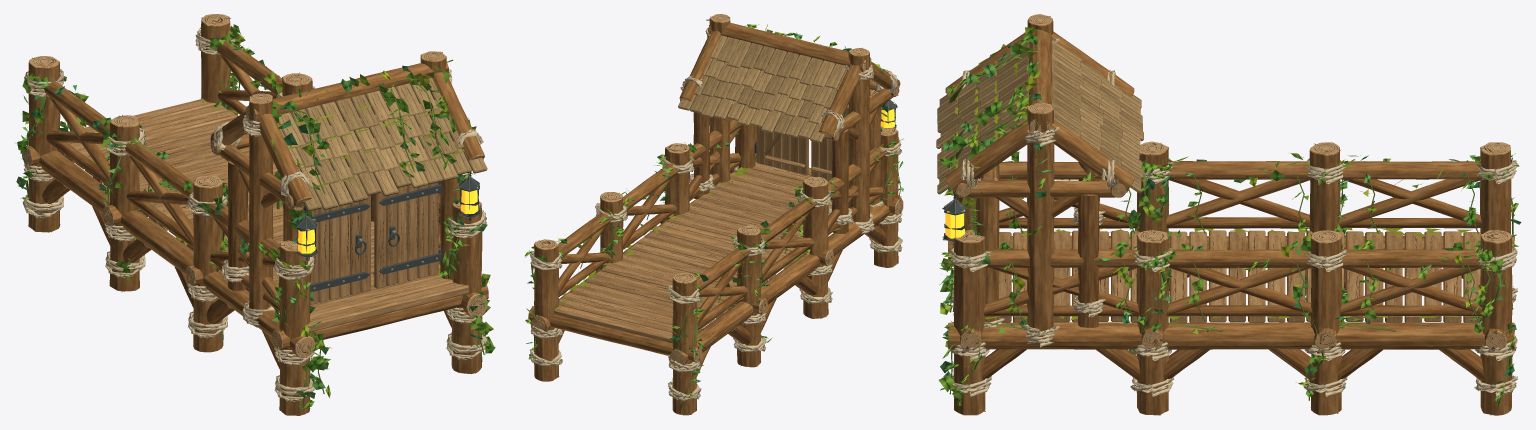
Rendered from woodland-bridge.glb.
3 renders of one model, left to right at view 1: azimuth 30°, elevation 25°; view 2: azimuth 150°, elevation 25°; view 3: azimuth 270°, elevation 25°, orthographic. The views are drawn at different scales.
Parts seen in each view (by area): view 1: WoodlandBridge_Body_Wood, WoodlandBridge_Canopy_Wood, WoodlandBridge_Body_Details, WoodlandBridge_GateRight_Wood, WoodlandBridge_GateLeft_Wood, WoodlandBridge_Canopy_Details, WoodlandBridge_GateRight_Details, WoodlandBridge_GateLeft_Details, WoodlandBridge_Glow_Glow; view 2: WoodlandBridge_Body_Wood, WoodlandBridge_Canopy_Wood, WoodlandBridge_Body_Details, WoodlandBridge_GateRight_Wood, WoodlandBridge_Canopy_Details, WoodlandBridge_GateLeft_Wood; view 3: WoodlandBridge_Body_Wood, WoodlandBridge_Canopy_Wood, WoodlandBridge_Body_Details, WoodlandBridge_Canopy_Details.
Boxes of the visible parts, box(x1,y1,x2,y2) form: WoodlandBridge_Body_Wood: box(22, 14, 488, 415); WoodlandBridge_Canopy_Wood: box(210, 51, 487, 319); WoodlandBridge_Body_Details: box(14, 14, 495, 409); WoodlandBridge_GateRight_Wood: box(373, 182, 438, 288); WoodlandBridge_GateLeft_Wood: box(310, 195, 370, 304); WoodlandBridge_Canopy_Details: box(211, 52, 483, 289); WoodlandBridge_GateRight_Details: box(379, 181, 441, 281); WoodlandBridge_GateLeft_Details: box(310, 201, 370, 291); WoodlandBridge_Glow_Glow: box(297, 187, 478, 253); WoodlandBridge_Body_Wood: box(528, 119, 903, 415); WoodlandBridge_Canopy_Wood: box(678, 14, 900, 233); WoodlandBridge_Body_Details: box(524, 18, 903, 415); WoodlandBridge_GateRight_Wood: box(757, 87, 808, 175); WoodlandBridge_Canopy_Details: box(680, 14, 898, 233); WoodlandBridge_GateLeft_Wood: box(810, 103, 848, 184); WoodlandBridge_Body_Wood: box(948, 141, 1514, 415); WoodlandBridge_Canopy_Wood: box(936, 14, 1143, 339); WoodlandBridge_Body_Details: box(938, 27, 1521, 415); WoodlandBridge_Canopy_Details: box(939, 15, 1141, 197).
Size of the model in its own units: 6.07 by 7.39 by 12.86.
6 materials, 4 textured.
